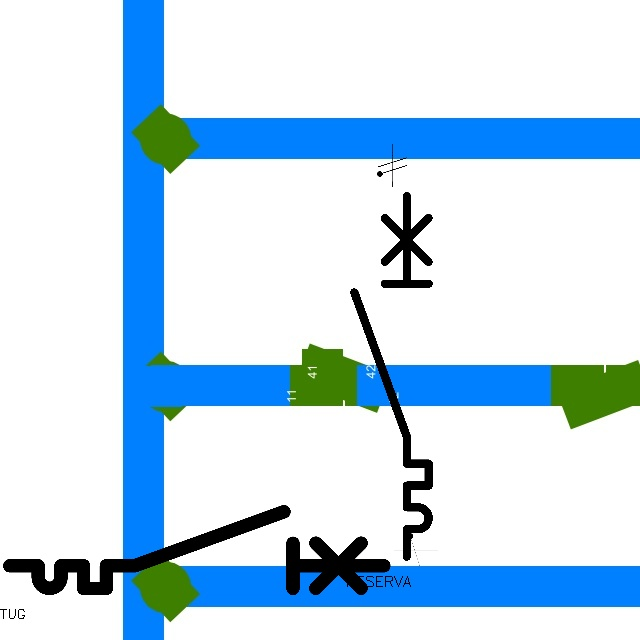interruptor_termomagnetico: (0, 502, 393, 598), (345, 186, 438, 565)
